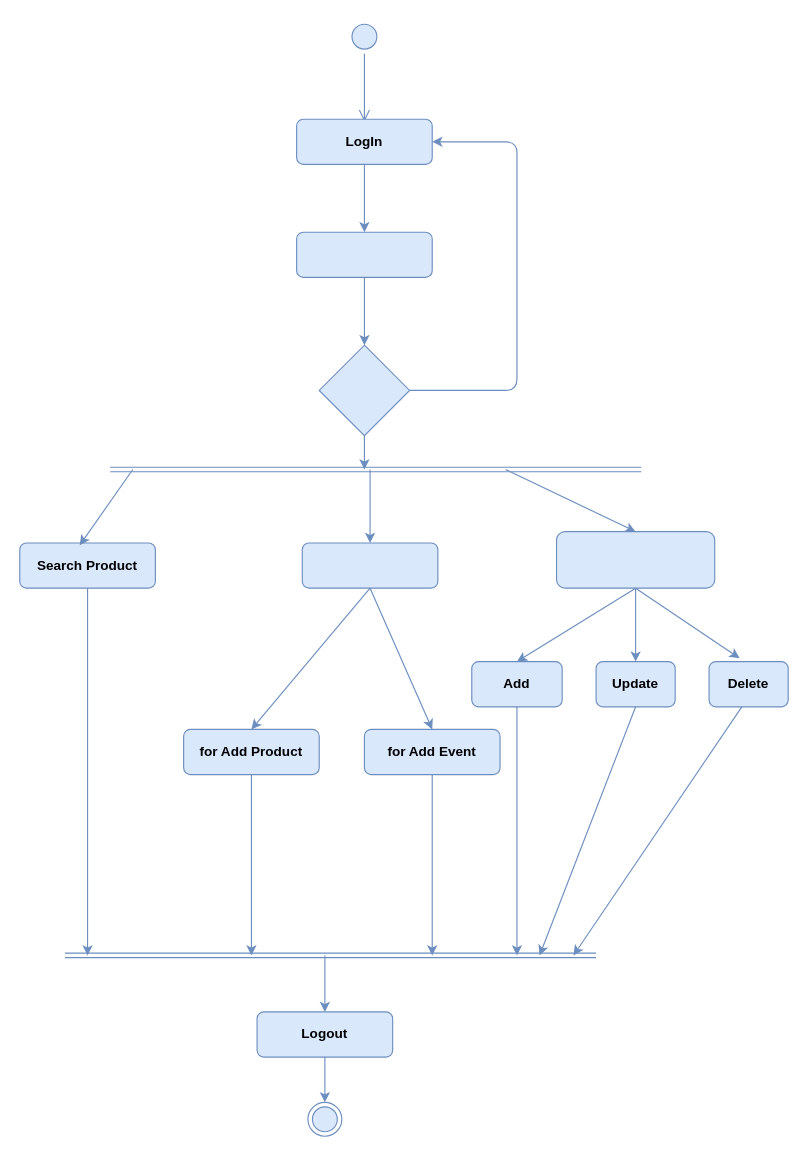
Image size: 808x1156. Some labels were removed from this diagram. Each missing label, with the box of its shape:
Authentication: (295, 231, 432, 277)
Check: (318, 344, 410, 436)
Manage Product,Category, Location,Event: (555, 531, 715, 588)
Manage Request: (301, 542, 438, 588)
